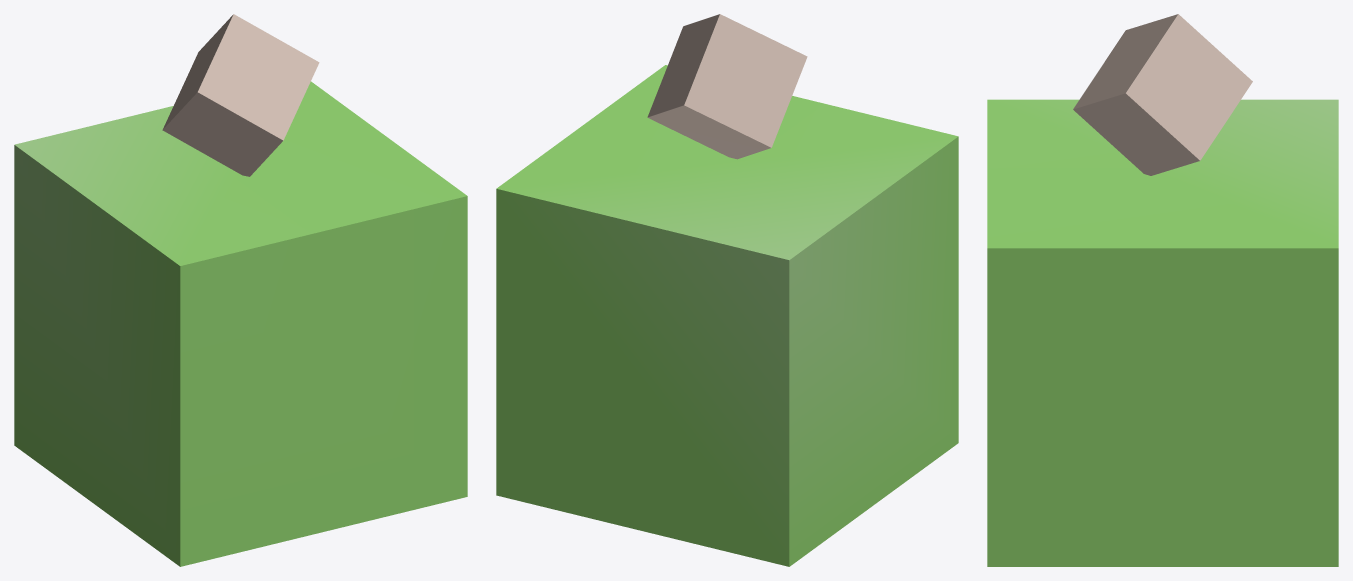
The model's file is BasicPeon.fbx.
The picture shows the model from 3 angles, left to right: view 1: azimuth 30°, elevation 25°; view 2: azimuth 150°, elevation 25°; view 3: azimuth 270°, elevation 25°; orthographic projection. The views are drawn at different scales.
Parts seen in each view (by area): view 1: BasicPeon; view 2: BasicPeon; view 3: BasicPeon.
Boxes of the visible parts, x1,y1,x2,y2 form: BasicPeon: (14, 14, 467, 566); BasicPeon: (496, 14, 958, 566); BasicPeon: (987, 14, 1338, 566).
Bounding box in the file's own units: 0.2 × 0.3004 × 0.2.
